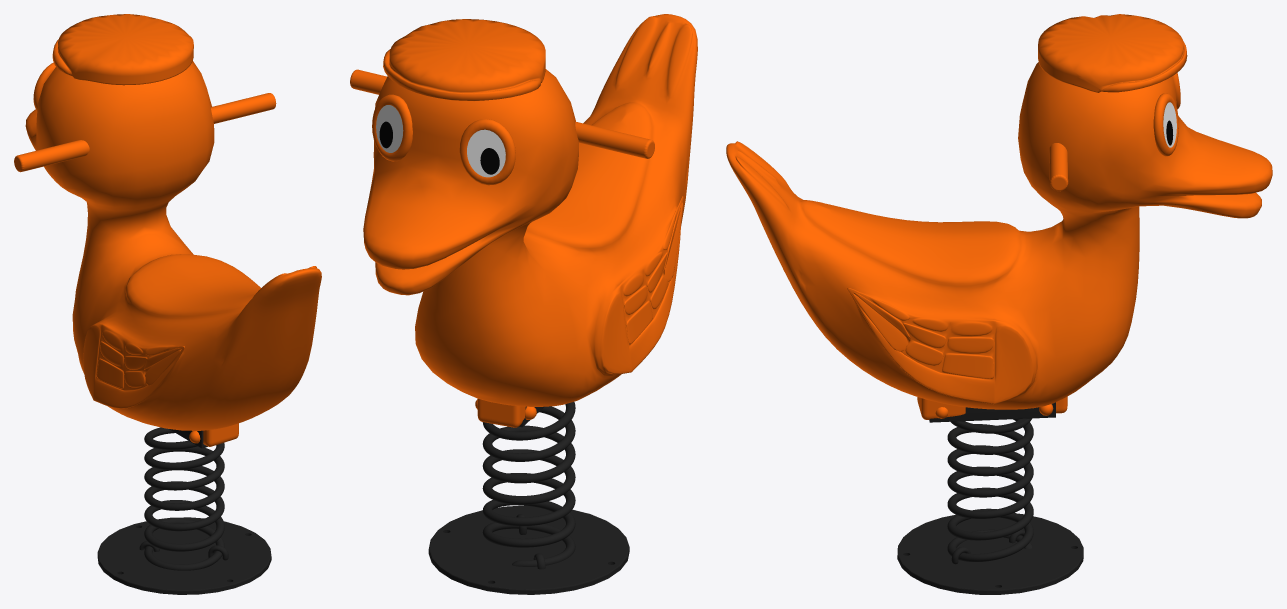
File: utochka_BarOcMz.gltf
3 renders of one model, left to right at view 1: azimuth 30°, elevation 25°; view 2: azimuth 150°, elevation 25°; view 3: azimuth 270°, elevation 25°, orthographic. The views are drawn at different scales.
Parts seen in each view (by area): view 1: Box25833, 跷跷板底座004, Cylinder23951, Cylinder24616, Box25832; view 2: Box25833, 跷跷板底座004, Cylinder23951, Cylinder24616, Ellipse161, Ellipse162, Ellipse160, Ellipse159, Box25832; view 3: Box25833, 跷跷板底座004, Cylinder23951, Ellipse160, Cylinder24616, Box25832.
Part boxes in pixels (x1,y1,x2,y2): Box25833: (25, 61, 321, 430); 跷跷板底座004: (97, 427, 271, 594); Cylinder23951: (52, 14, 193, 85); Cylinder24616: (14, 93, 276, 172); Box25832: (203, 423, 238, 446); Box25833: (363, 14, 697, 406); 跷跷板底座004: (428, 402, 629, 594); Cylinder23951: (383, 19, 545, 101); Cylinder24616: (350, 69, 654, 158); Ellipse161: (459, 119, 515, 185); Ellipse162: (467, 129, 505, 177); Ellipse160: (372, 94, 412, 161); Ellipse159: (376, 105, 403, 152); Box25832: (477, 399, 525, 427); Box25833: (726, 62, 1272, 409); 跷跷板底座004: (897, 402, 1083, 594); Cylinder23951: (1038, 14, 1187, 92); Ellipse160: (1153, 93, 1178, 156); Cylinder24616: (1049, 143, 1068, 191); Box25832: (917, 396, 1067, 419).
Size of the model in its own units: 0.5521 by 0.9895 by 0.9483.
